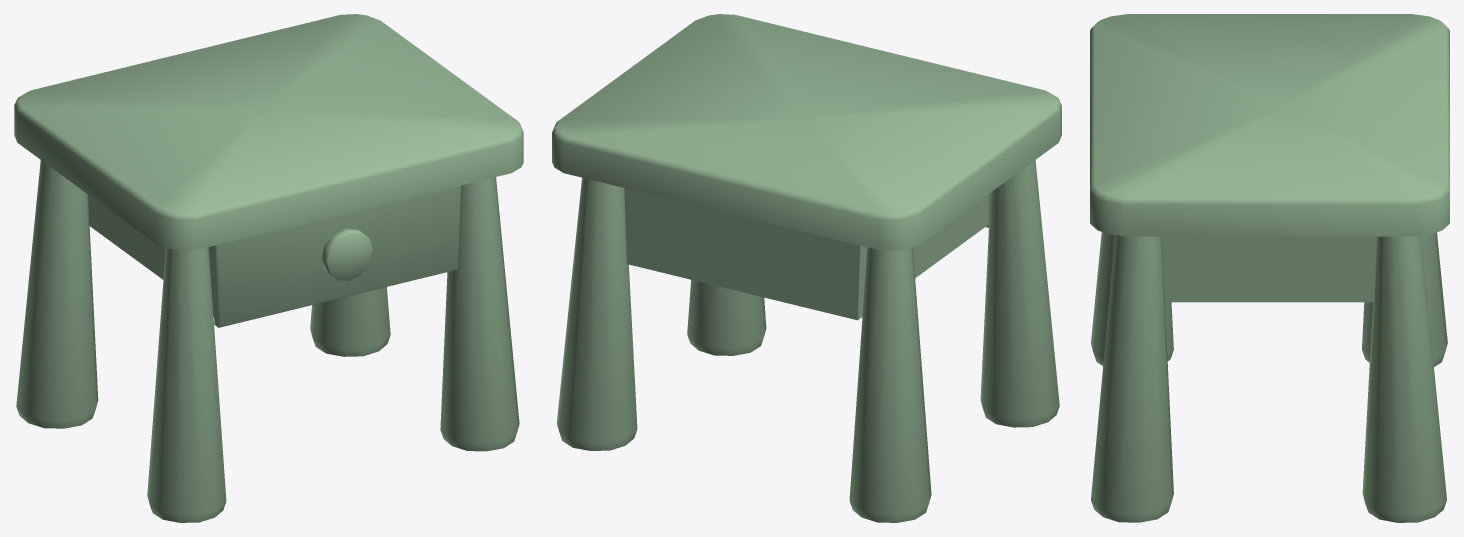
Rendered from MammutBedsideTable.FBX.
3 renders of one model, left to right at view 1: azimuth 30°, elevation 25°; view 2: azimuth 150°, elevation 25°; view 3: azimuth 270°, elevation 25°, orthographic. The views are drawn at different scales.
Visible parts, largest first — view 1: MammutBedsideTable; view 2: MammutBedsideTable; view 3: MammutBedsideTable.
Part boxes in pixels (x1,y1,x2,y2): MammutBedsideTable: [14, 14, 523, 522]; MammutBedsideTable: [552, 14, 1061, 522]; MammutBedsideTable: [1090, 14, 1449, 522].
Size of the model in its own units: 47.99 by 38.97 by 38.99.
